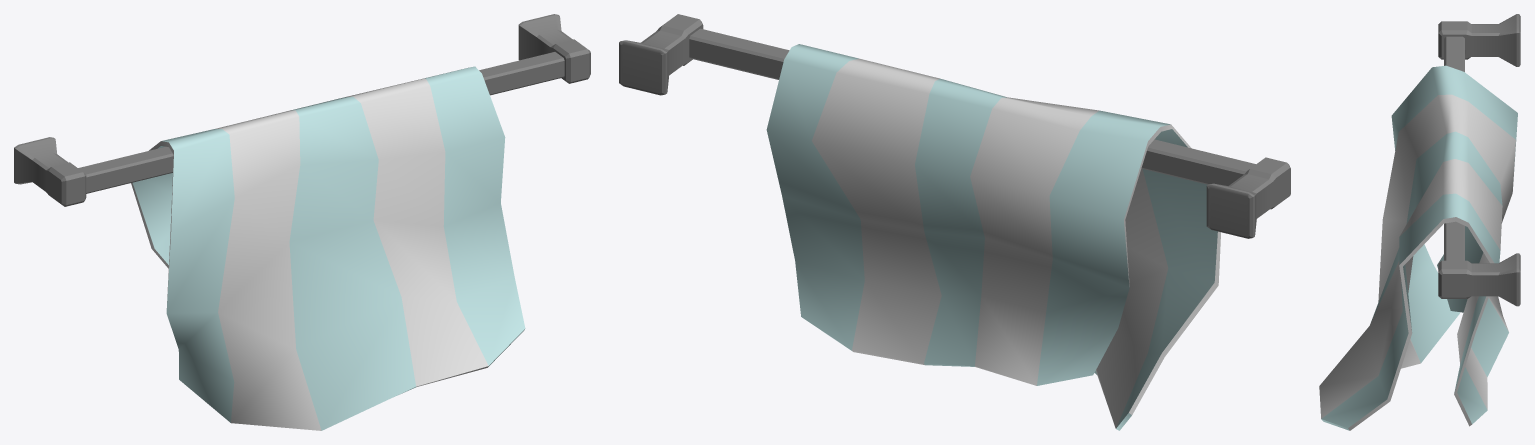
Rendered from Bathroom_TowelRack.fbx.
The picture shows the model from 3 angles, left to right: view 1: azimuth 30°, elevation 25°; view 2: azimuth 150°, elevation 25°; view 3: azimuth 270°, elevation 25°; orthographic projection. The views are drawn at different scales.
Parts seen in each view (by area): view 1: Bathroom_TowelRack; view 2: Bathroom_TowelRack; view 3: Bathroom_TowelRack.
Part boxes in pixels (x1,y1,x2,y2): Bathroom_TowelRack: [14, 14, 590, 430]; Bathroom_TowelRack: [619, 14, 1290, 430]; Bathroom_TowelRack: [1319, 14, 1520, 430].
Size of the model in its own units: 105 by 51.96 by 34.51.
